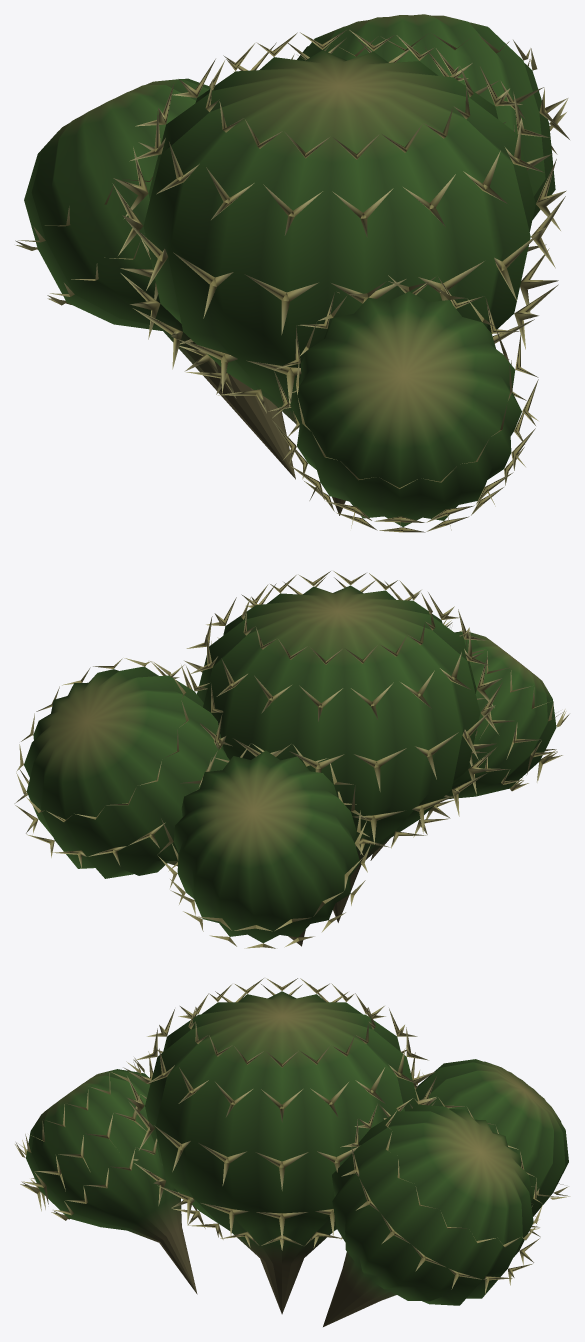
The model's file is plants-cacti-succulents-cactus-cluster_v2.fbx.
3 renders of one model, top to bottom at view 1: azimuth 30°, elevation 25°; view 2: azimuth 150°, elevation 25°; view 3: azimuth 270°, elevation 25°, orthographic. The views are drawn at different scales.
Visible parts, largest first — view 1: Cactus Cluster_v2; view 2: Cactus Cluster_v2; view 3: Cactus Cluster_v2.
Boxes of the visible parts, <box> form: Cactus Cluster_v2: <box>15,14,569,532</box>; Cactus Cluster_v2: <box>14,571,569,948</box>; Cactus Cluster_v2: <box>15,978,570,1326</box>.
Bounding box in the file's own units: 0.2968 × 0.2384 × 0.4.
